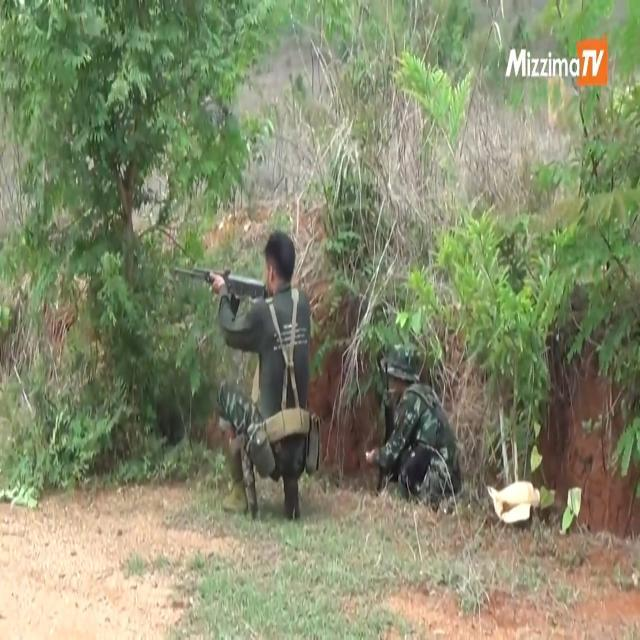MIL_Pax: (211, 231, 311, 517), (366, 347, 461, 506)
